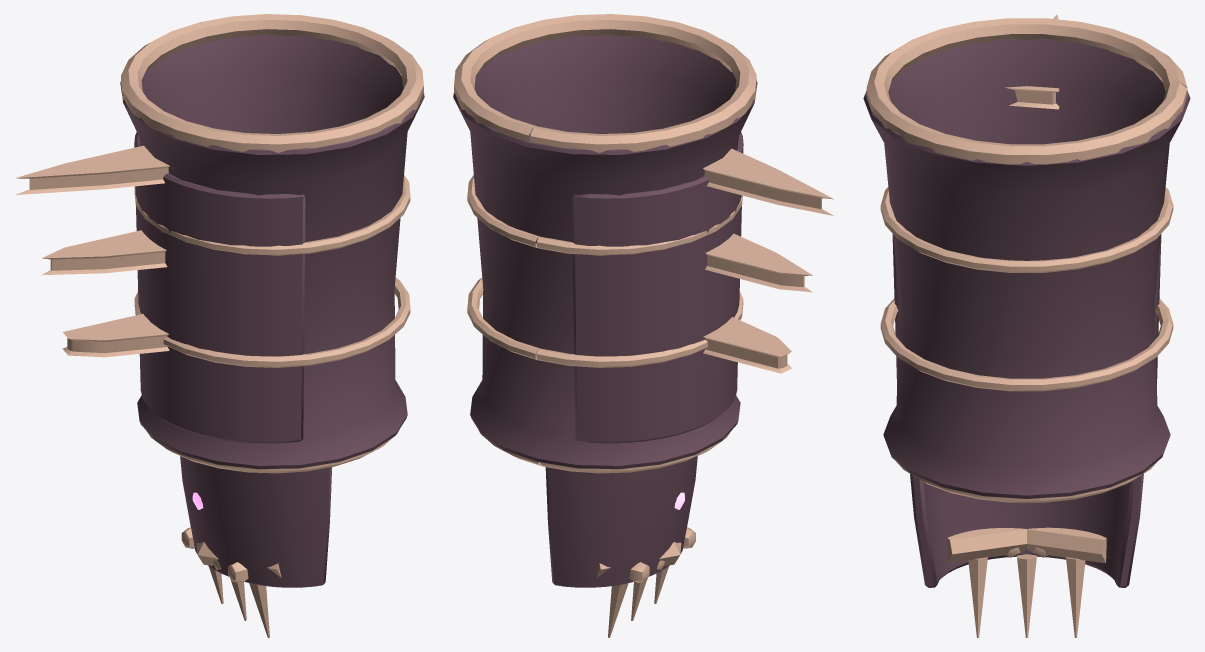
File: asc_aeonbreaker_gloves_R.glb
3 renders of one model, left to right at view 1: azimuth 30°, elevation 25°; view 2: azimuth 150°, elevation 25°; view 3: azimuth 270°, elevation 25°, orthographic. The views are drawn at different scales.
Parts seen in each view (by area): view 1: asc_aeonbreaker_gloves, AT_hand_R; view 2: asc_aeonbreaker_gloves, AT_hand_R; view 3: asc_aeonbreaker_gloves, AT_hand_R.
Boxes of the visible parts, box(x1,y1,x2,y2) form: asc_aeonbreaker_gloves: box(15, 14, 424, 473); AT_hand_R: box(180, 456, 332, 637); asc_aeonbreaker_gloves: box(453, 14, 833, 473); AT_hand_R: box(545, 456, 697, 637); asc_aeonbreaker_gloves: box(863, 14, 1190, 502); AT_hand_R: box(910, 474, 1143, 637).
Bounding box in the file's own units: 0.2808 × 0.385 × 0.2004.
